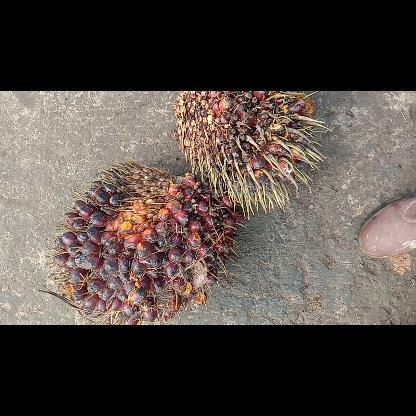Kurang masak: (49, 160, 246, 324)
TBS abnormal: (172, 91, 330, 217)
